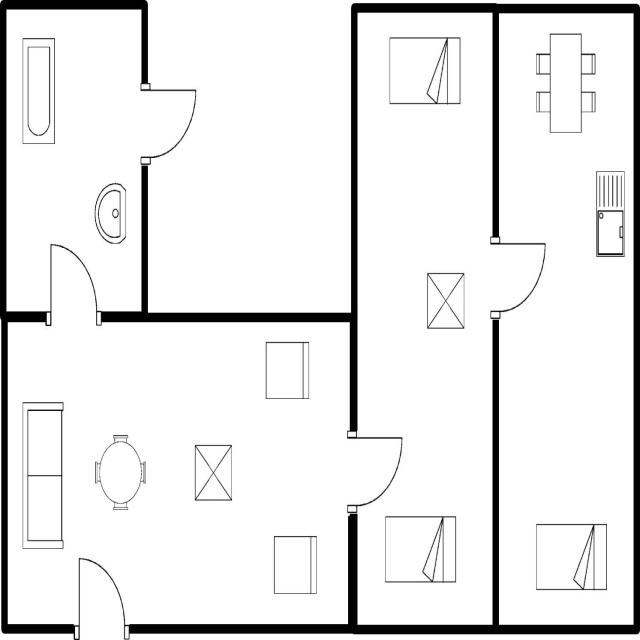bed: (382, 510, 459, 587), (532, 520, 610, 594), (388, 33, 462, 108)
coffee_table: (191, 440, 234, 504), (424, 269, 466, 331)
dining_table: (531, 26, 599, 138)
large_sofa: (20, 395, 66, 553)
round_table: (90, 428, 150, 514)
sink: (593, 164, 627, 263)
small_sink: (92, 178, 130, 248)
small_sofa: (262, 337, 312, 404), (271, 530, 320, 598)
tub: (19, 34, 57, 149)
